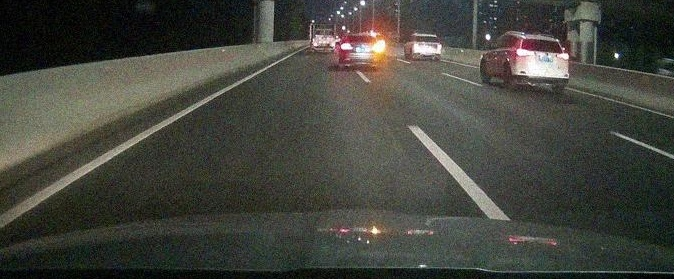L_light: (516, 48, 533, 57), (340, 43, 353, 50), (372, 43, 384, 50), (413, 43, 420, 47)
R_light: (556, 52, 569, 61), (436, 44, 441, 48)
T_light: (537, 38, 548, 42), (356, 35, 364, 37), (424, 36, 430, 38)
night-no: (513, 33, 569, 90), (411, 33, 442, 60)
night-right: (339, 33, 385, 70)
